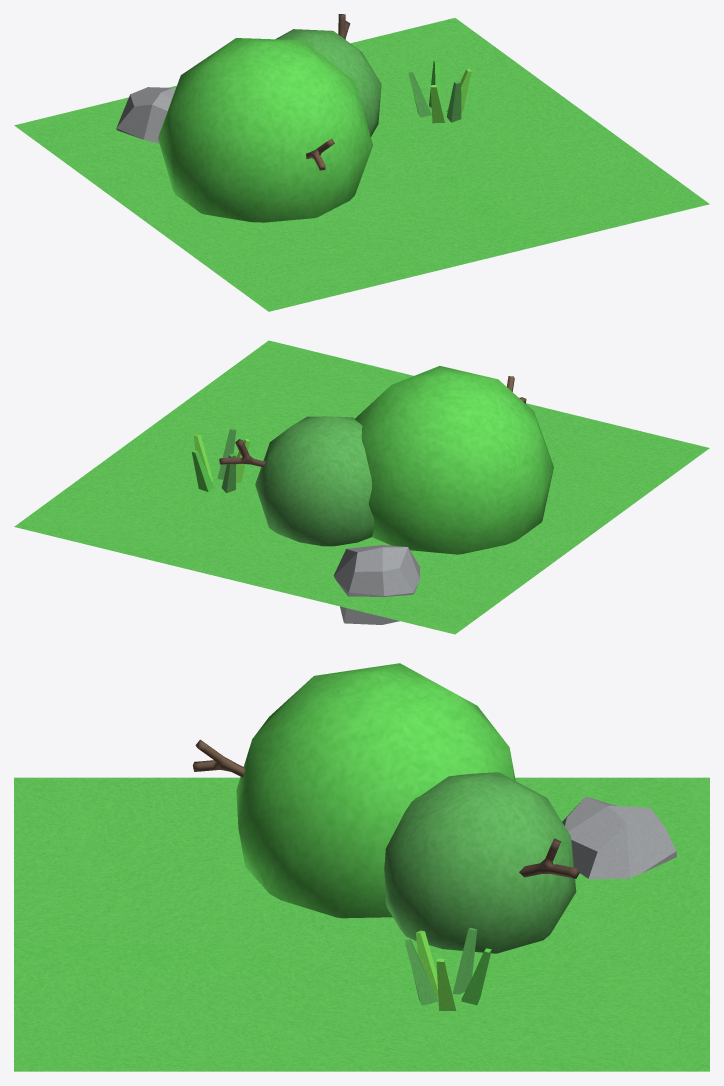
The model's file is park_5.fbx.
3 renders of one model, top to bottom at view 1: azimuth 30°, elevation 25°; view 2: azimuth 150°, elevation 25°; view 3: azimuth 270°, elevation 25°, orthographic. The views are drawn at different scales.
Visible parts, largest first — view 1: park_green.013, small_bush.002, stone.019, grass.033; view 2: park_green.013, small_bush.002, stone.019, grass.033; view 3: park_green.013, small_bush.002, stone.019, grass.033.
Part boxes in pixels (bbox=[...]): park_green.013: bbox=[14, 18, 709, 311]; small_bush.002: bbox=[158, 14, 381, 222]; stone.019: bbox=[116, 87, 175, 143]; grass.033: bbox=[408, 60, 471, 123]; park_green.013: bbox=[14, 340, 709, 634]; small_bush.002: bbox=[219, 366, 553, 554]; stone.019: bbox=[333, 545, 419, 624]; grass.033: bbox=[191, 428, 249, 493]; park_green.013: bbox=[14, 777, 709, 1071]; small_bush.002: bbox=[192, 663, 579, 953]; stone.019: bbox=[562, 796, 676, 878]; grass.033: bbox=[405, 927, 491, 1010].
Bounding box in the file's own units: 2 × 0.8479 × 2.
Materials: 2 (2 with a texture image).
